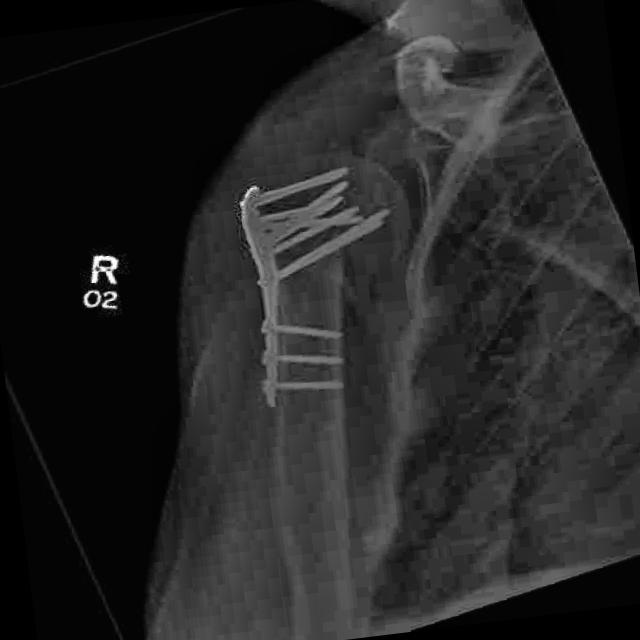shoulder fracture: (304, 239, 380, 315)
